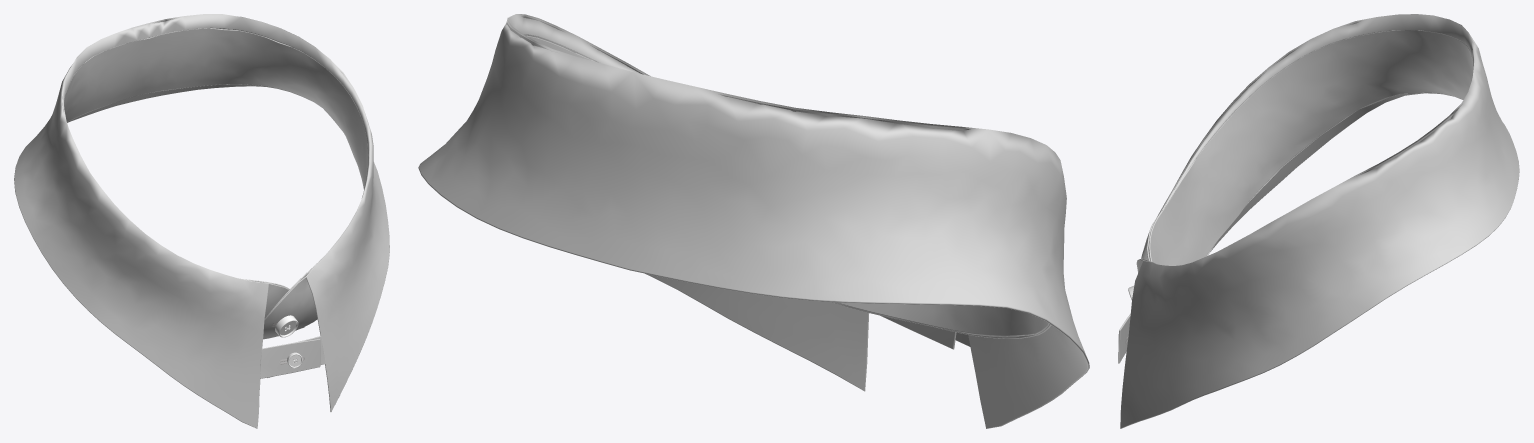
The model's file is Tab_Collar.glb.
The picture shows the model from 3 angles, left to right: view 1: azimuth 30°, elevation 25°; view 2: azimuth 150°, elevation 25°; view 3: azimuth 270°, elevation 25°; orthographic projection. The views are drawn at different scales.
Parts seen in each view (by area): view 1: Pattern_4935173_Node, inner_Node, Pattern_4935171_Node, Pattern_831913_Node, button.002; view 2: Pattern_4935173_Node, inner_Node, Pattern_831912_Node; view 3: Pattern_4935173_Node, inner_Node, Pattern_4935171_Node.
Boxes of the visible parts, <box> form: Pattern_4935173_Node: <box>14,14,389,428</box>; inner_Node: <box>64,28,367,318</box>; Pattern_4935171_Node: <box>67,28,368,339</box>; Pattern_831913_Node: <box>260,339,320,378</box>; button.002: <box>275,315,298,337</box>; Pattern_4935173_Node: <box>418,14,1089,428</box>; inner_Node: <box>526,35,1049,336</box>; Pattern_831912_Node: <box>880,315,956,349</box>; Pattern_4935173_Node: <box>1120,14,1519,428</box>; inner_Node: <box>1142,30,1473,265</box>; Pattern_4935171_Node: <box>1136,30,1463,272</box>.
Size of the model in its own units: 15.92 by 13.1 by 13.59.
5 materials, 2 textured.
